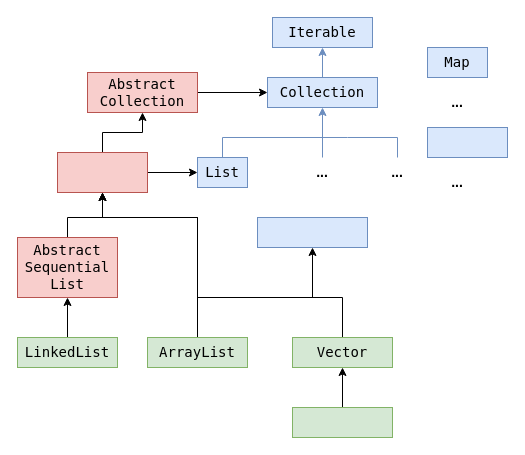
Some shapes in this 525 by 455 pixel diagram are drawn without their labels. The box of each missing label's shape, as (x1, y1, x2, y2) in pixels:
Abstract List: (56, 152, 148, 192)
Iterator: (426, 126, 508, 158)
RandomAccess: (256, 216, 368, 248)
Stack: (292, 406, 392, 438)
